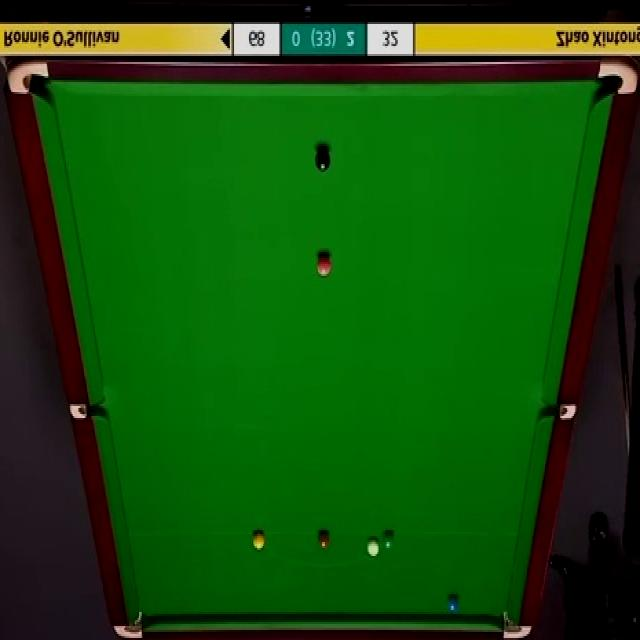pocket: (596, 55, 640, 97), (6, 60, 48, 95), (112, 606, 145, 640), (501, 606, 534, 640), (68, 402, 105, 423), (539, 404, 576, 418)
